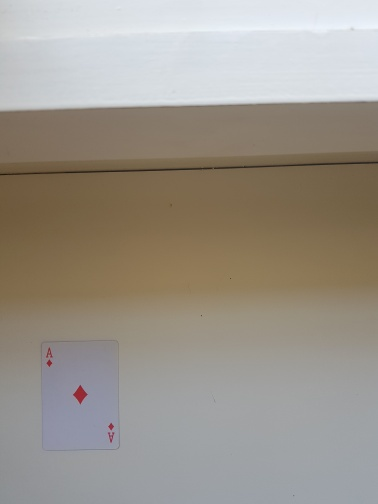ace: (40, 339, 122, 452)
